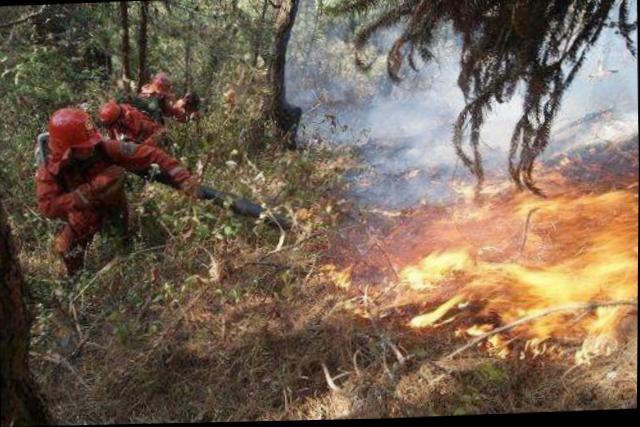fire: (322, 117, 638, 380)
